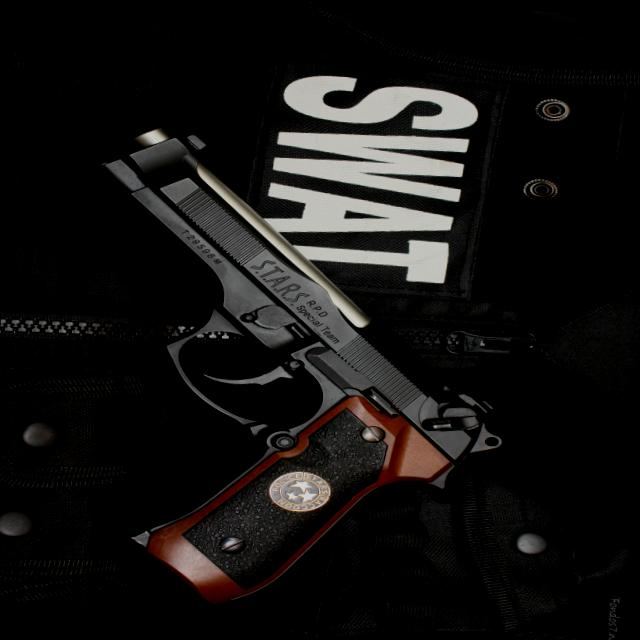handgun: (52, 123, 525, 622)
